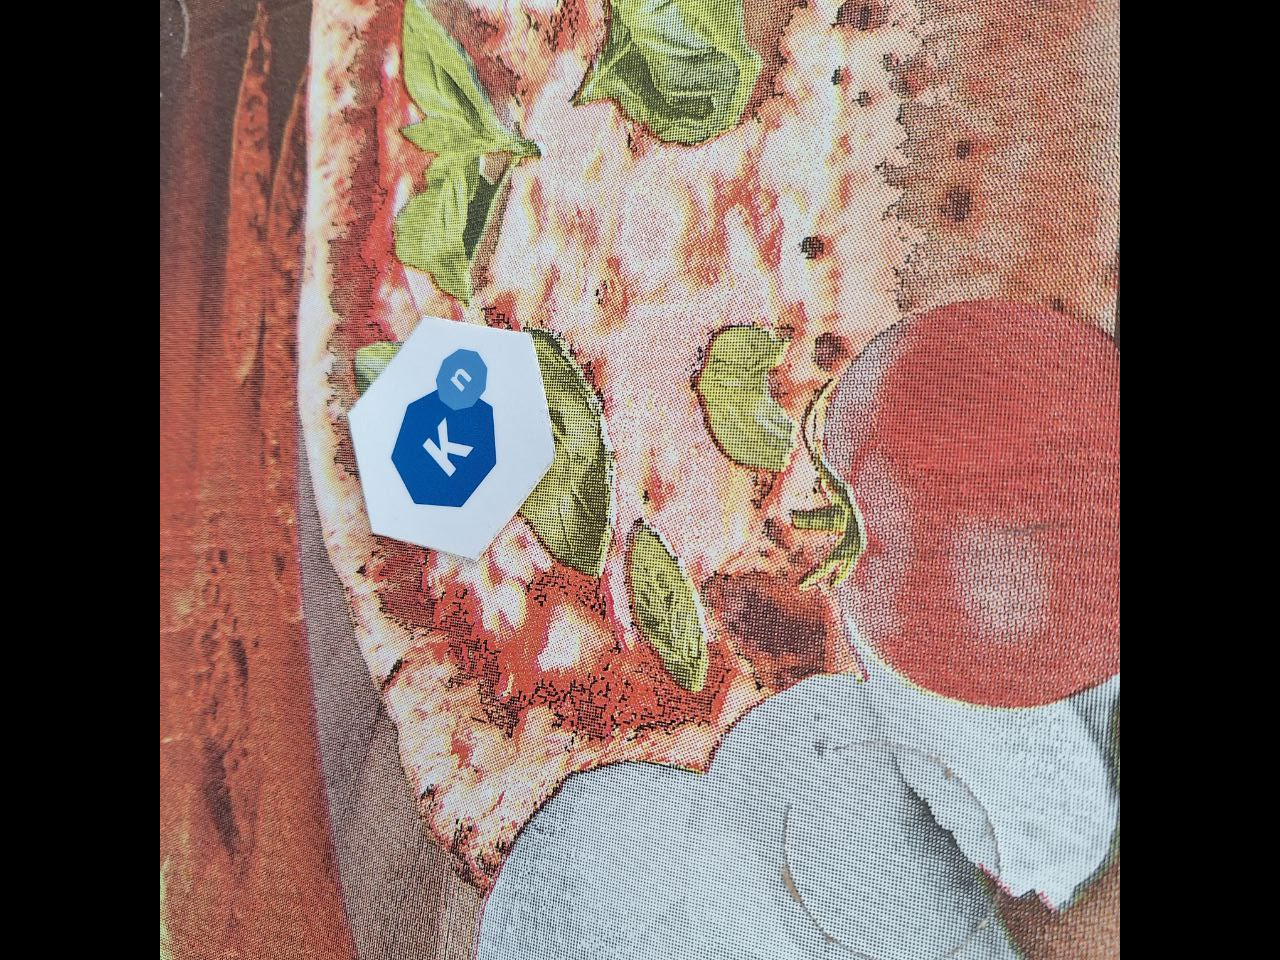knative: (388, 348, 498, 507)
